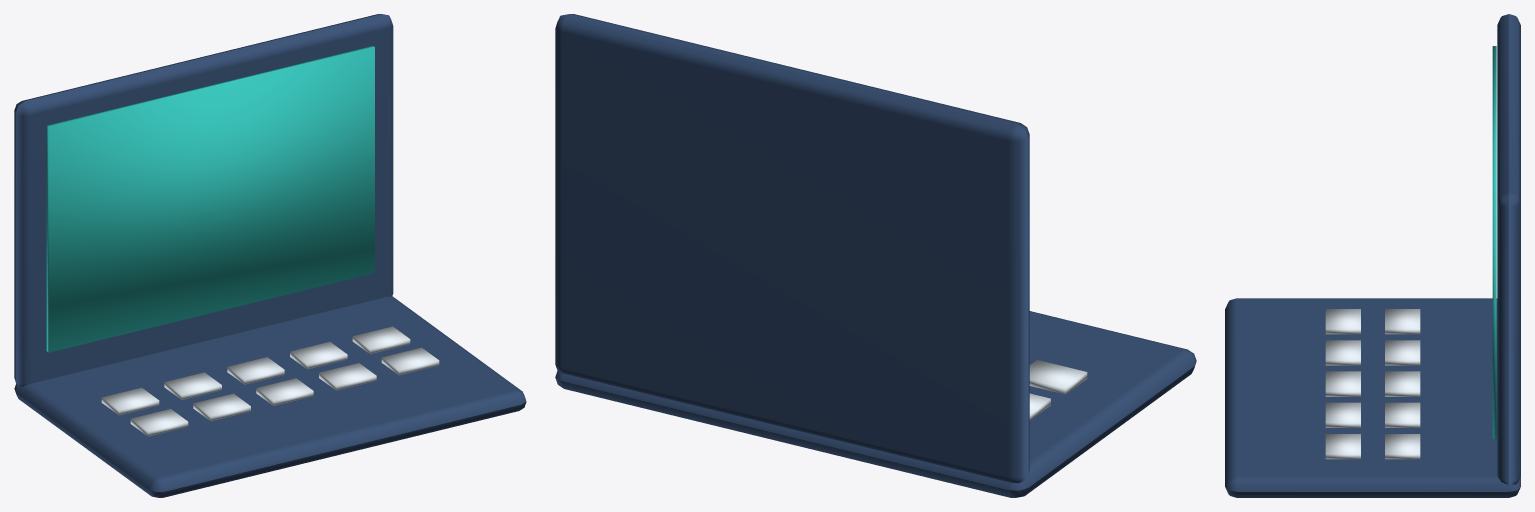
Rendered from laptop-lite.glb.
The picture shows the model from 3 angles, left to right: view 1: azimuth 30°, elevation 25°; view 2: azimuth 150°, elevation 25°; view 3: azimuth 270°, elevation 25°; orthographic projection. The views are drawn at different scales.
Visible parts, largest first — view 1: Keyboard deck; view 2: Keyboard deck; view 3: Keyboard deck.
Part boxes in pixels (x1,y1,x2,y2): Keyboard deck: [14, 14, 526, 497]; Keyboard deck: [555, 14, 1196, 497]; Keyboard deck: [1225, 14, 1520, 497].
Size of the model in its own units: 1.5 by 1.14 by 1.
